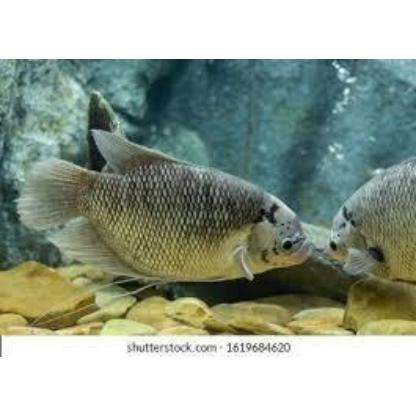gurame: (29, 140, 310, 288), (325, 152, 415, 288)
